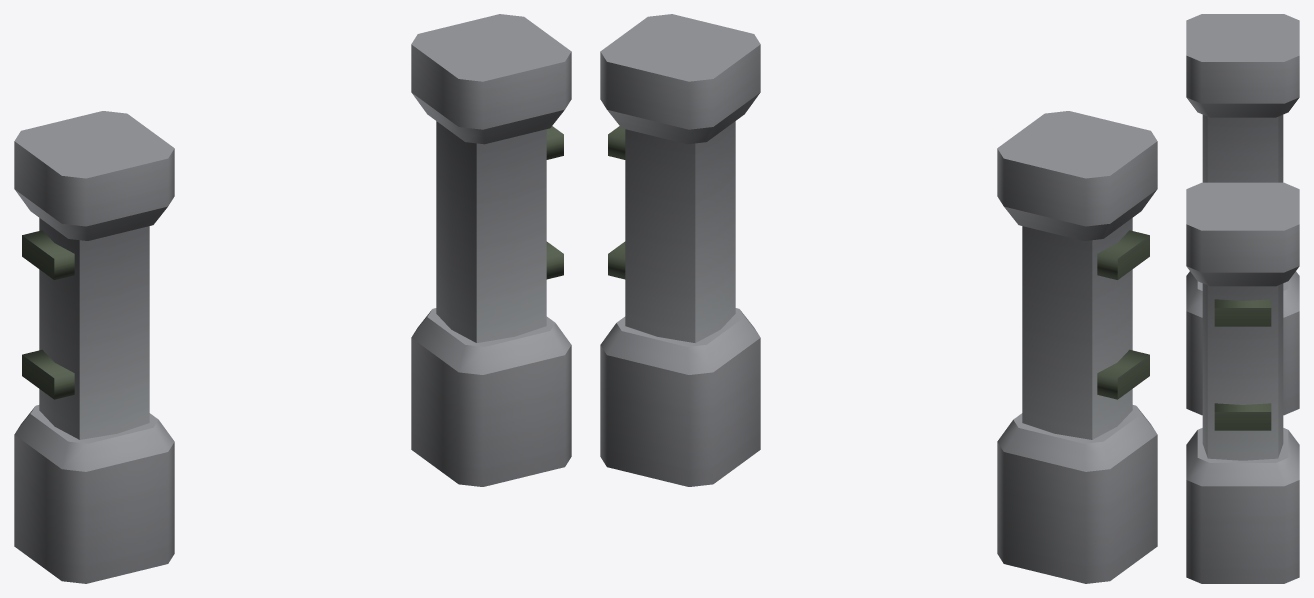
File: iron-fence-border-gate.glb
3 renders of one model, left to right at view 1: azimuth 30°, elevation 25°; view 2: azimuth 150°, elevation 25°; view 3: azimuth 270°, elevation 25°, orthographic. The views are drawn at different scales.
Parts seen in each view (by area): view 1: iron-fence-border-gate; view 2: iron-fence-border-gate; view 3: iron-fence-border-gate.
Boxes of the visible parts, <box> form: iron-fence-border-gate: <box>14,14,571,583</box>; iron-fence-border-gate: <box>600,14,1157,583</box>; iron-fence-border-gate: <box>1186,14,1299,583</box>.
Bounding box in the file's own units: 1.5 × 1.14 × 0.3323.
Materials: 1 (1 with a texture image).
